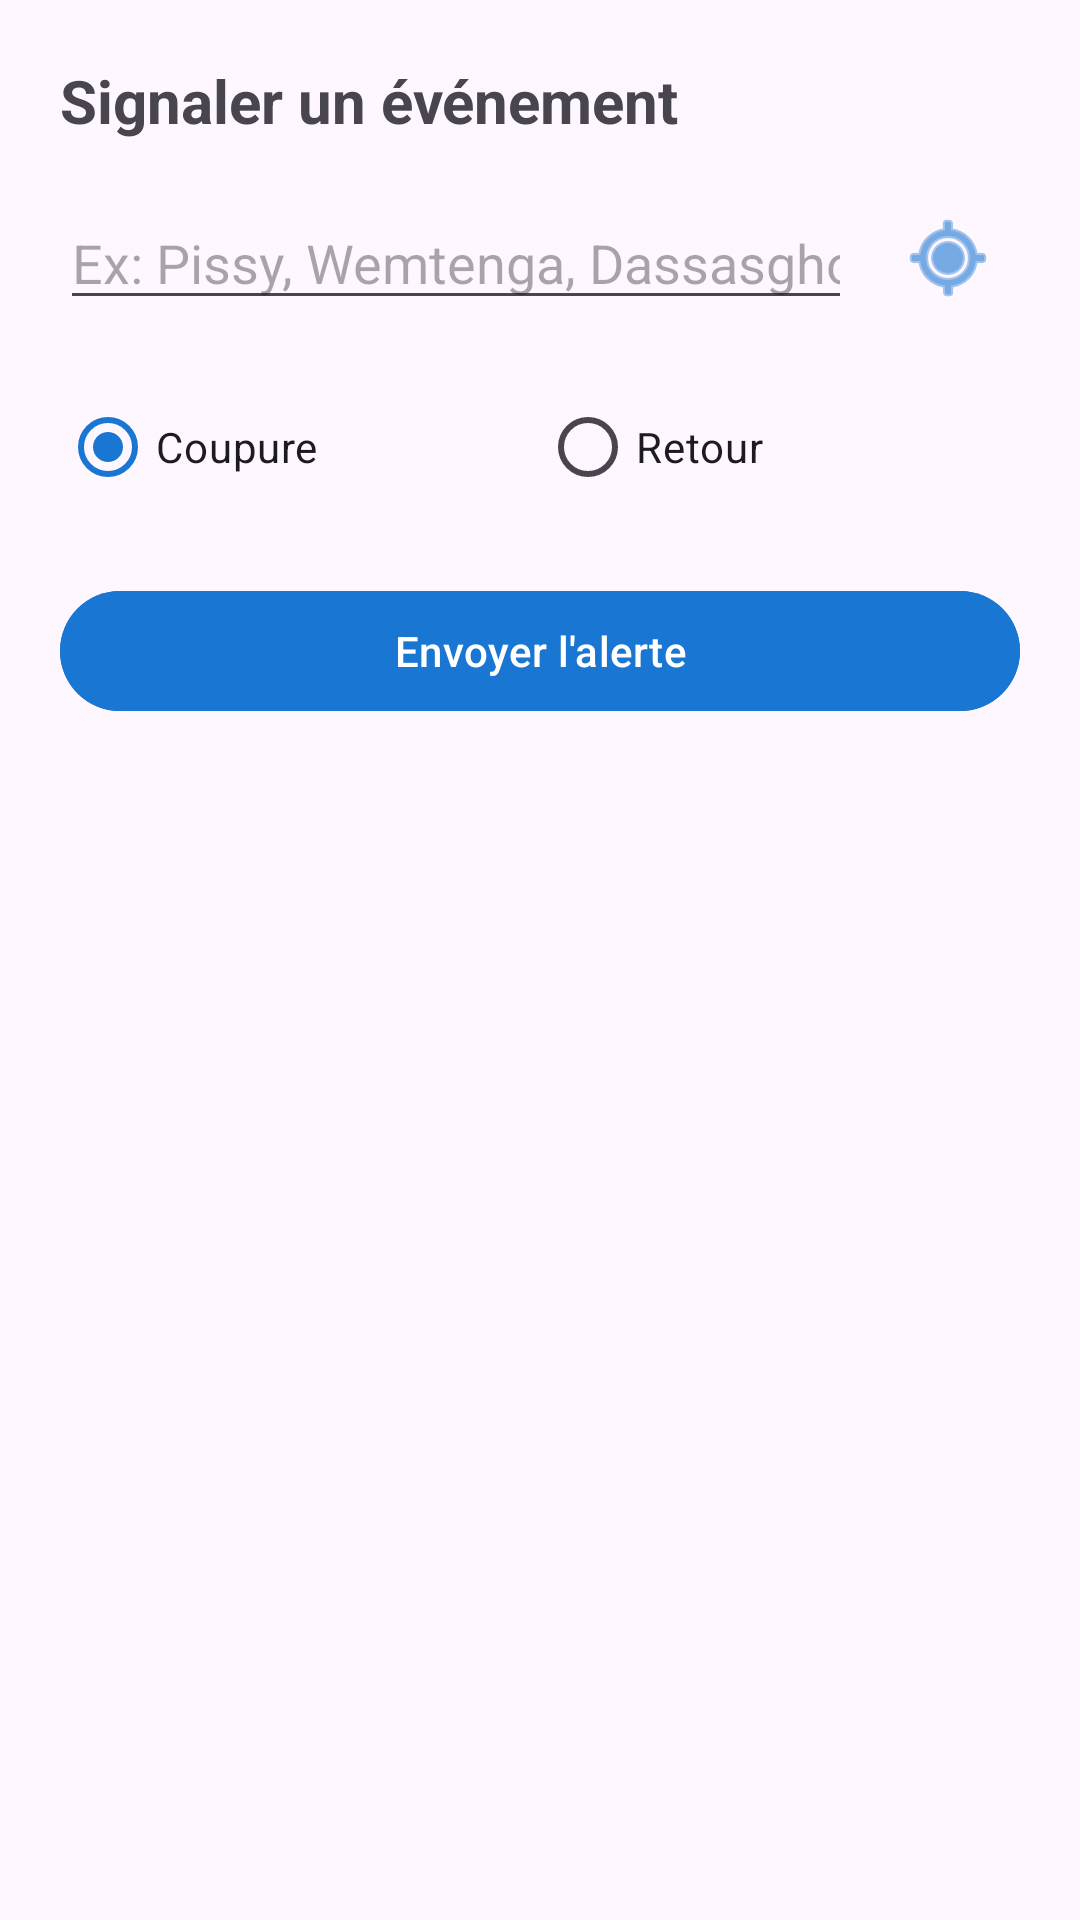

Icons on this 1080x1920 Android screen, each with the point to tap as point (x, y):
Ma position: point (948, 258)
